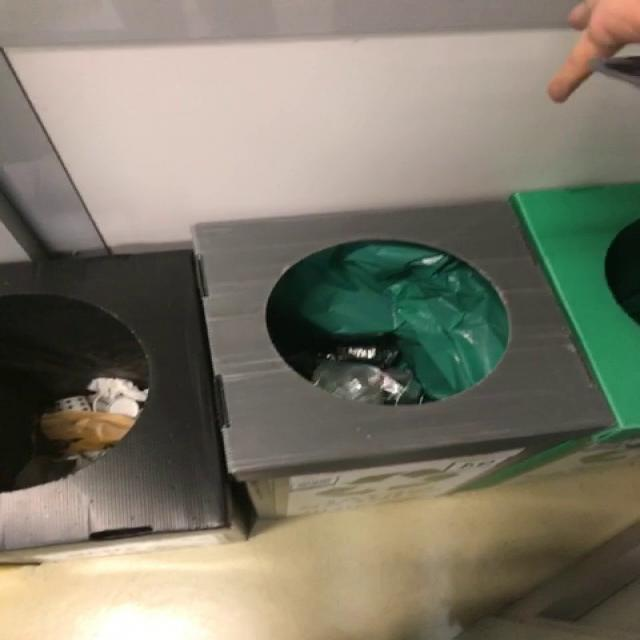Bin: (0, 202, 613, 550)
Metal: (313, 363, 421, 405)
